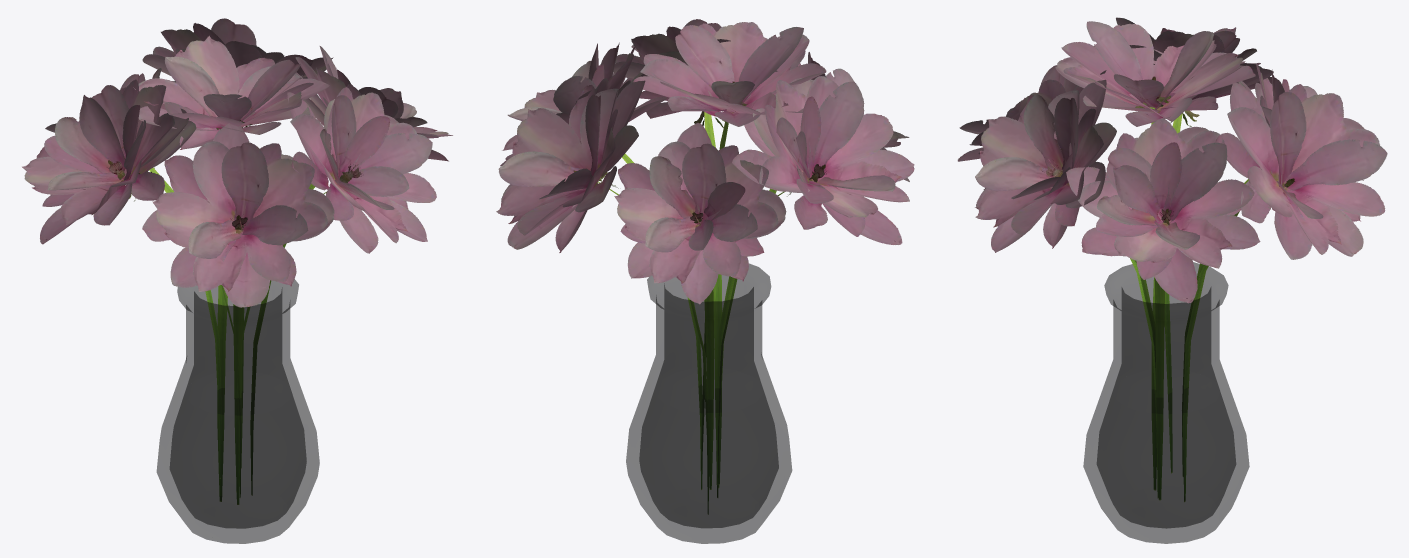
The model's file is flowers.glb.
3 renders of one model, left to right at view 1: azimuth 30°, elevation 25°; view 2: azimuth 150°, elevation 25°; view 3: azimuth 270°, elevation 25°, orthographic.
Parts seen in each view (by area): view 1: flowers_magnolia_003_flowers_magnolia_0, flowers_magnolia_003_flowers_magnolia_bowl_0, flowers_magnolia_003_flowers_magnolia_water_0, flowers_magnolia_003_flowers_magnolia_stem_0; view 2: flowers_magnolia_003_flowers_magnolia_0, flowers_magnolia_003_flowers_magnolia_bowl_0, flowers_magnolia_003_flowers_magnolia_water_0, flowers_magnolia_003_flowers_magnolia_stem_0; view 3: flowers_magnolia_003_flowers_magnolia_0, flowers_magnolia_003_flowers_magnolia_bowl_0, flowers_magnolia_003_flowers_magnolia_water_0, flowers_magnolia_003_flowers_magnolia_stem_0.
Boxes of the visible parts, left/top/right/bottom form: flowers_magnolia_003_flowers_magnolia_0: left=22, top=18, right=452, bottom=307; flowers_magnolia_003_flowers_magnolia_bowl_0: left=156, top=279, right=319, bottom=543; flowers_magnolia_003_flowers_magnolia_water_0: left=170, top=371, right=306, bottom=528; flowers_magnolia_003_flowers_magnolia_stem_0: left=149, top=167, right=326, bottom=504; flowers_magnolia_003_flowers_magnolia_0: left=496, top=19, right=914, bottom=304; flowers_magnolia_003_flowers_magnolia_bowl_0: left=626, top=263, right=792, bottom=543; flowers_magnolia_003_flowers_magnolia_water_0: left=639, top=368, right=778, bottom=527; flowers_magnolia_003_flowers_magnolia_stem_0: left=598, top=112, right=784, bottom=514; flowers_magnolia_003_flowers_magnolia_0: left=957, top=17, right=1387, bottom=303; flowers_magnolia_003_flowers_magnolia_bowl_0: left=1083, top=262, right=1249, bottom=543; flowers_magnolia_003_flowers_magnolia_water_0: left=1097, top=369, right=1235, bottom=528; flowers_magnolia_003_flowers_magnolia_stem_0: left=1130, top=107, right=1248, bottom=501.
Bounding box in the file's own units: 533 × 595 × 506.
4 materials, 2 textured.
